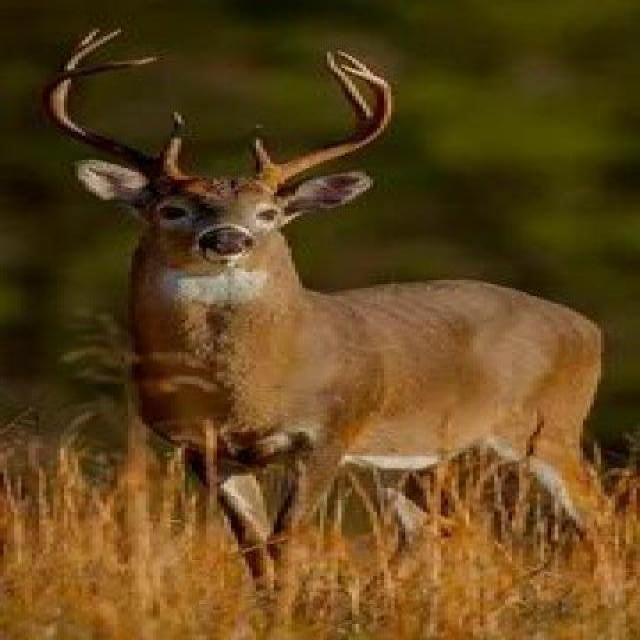deer: (0, 92, 640, 583)
